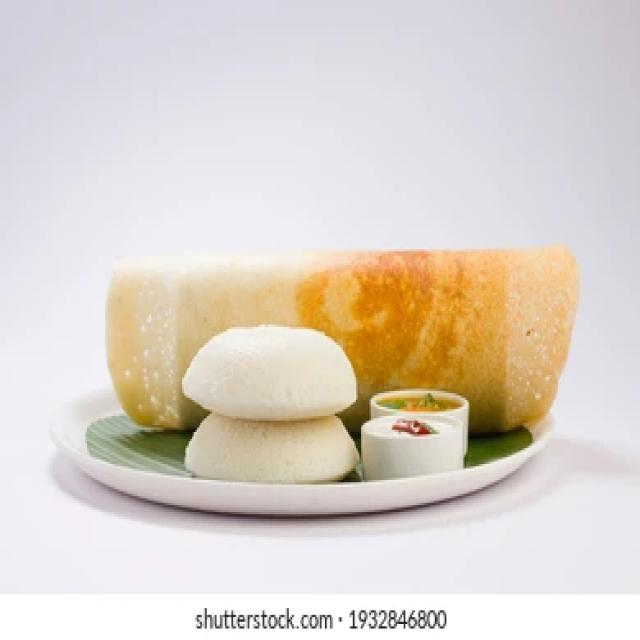DOSA: (111, 241, 584, 437)
IDLI: (187, 333, 360, 424), (186, 413, 357, 478)
